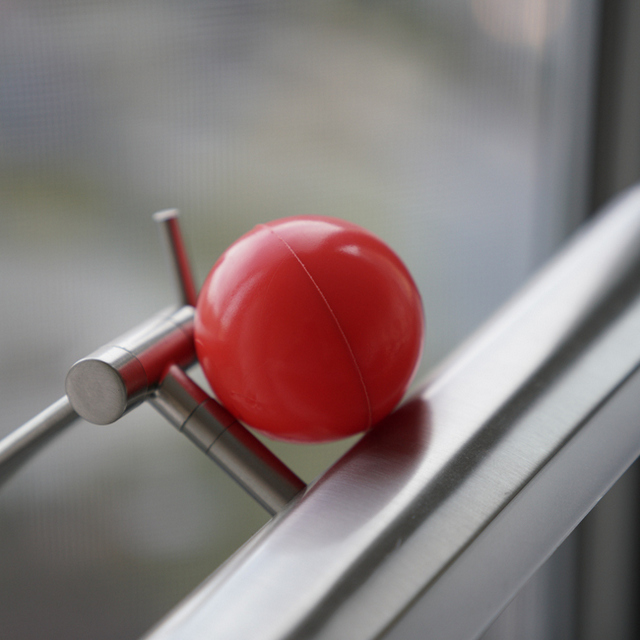Ball: (196, 219, 427, 442)
